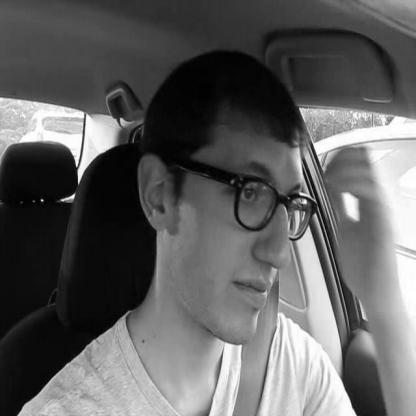seatbelt: (112, 29, 314, 416)
